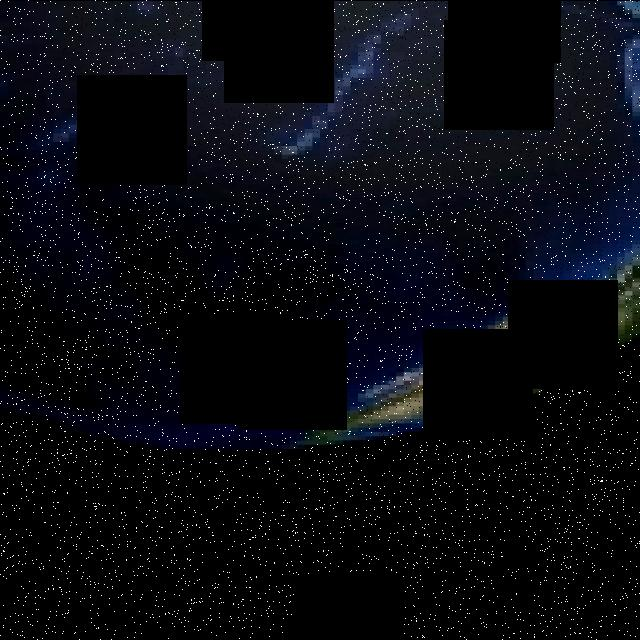Earth: (0, 1, 640, 457)
